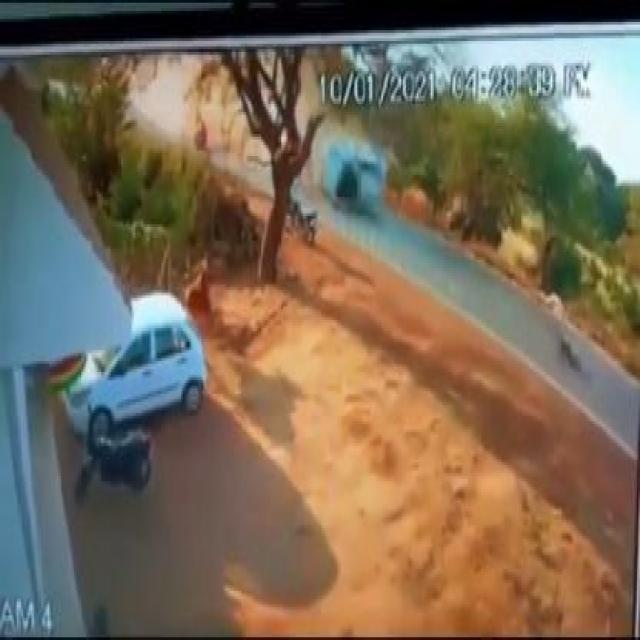accident: (312, 129, 388, 224)
